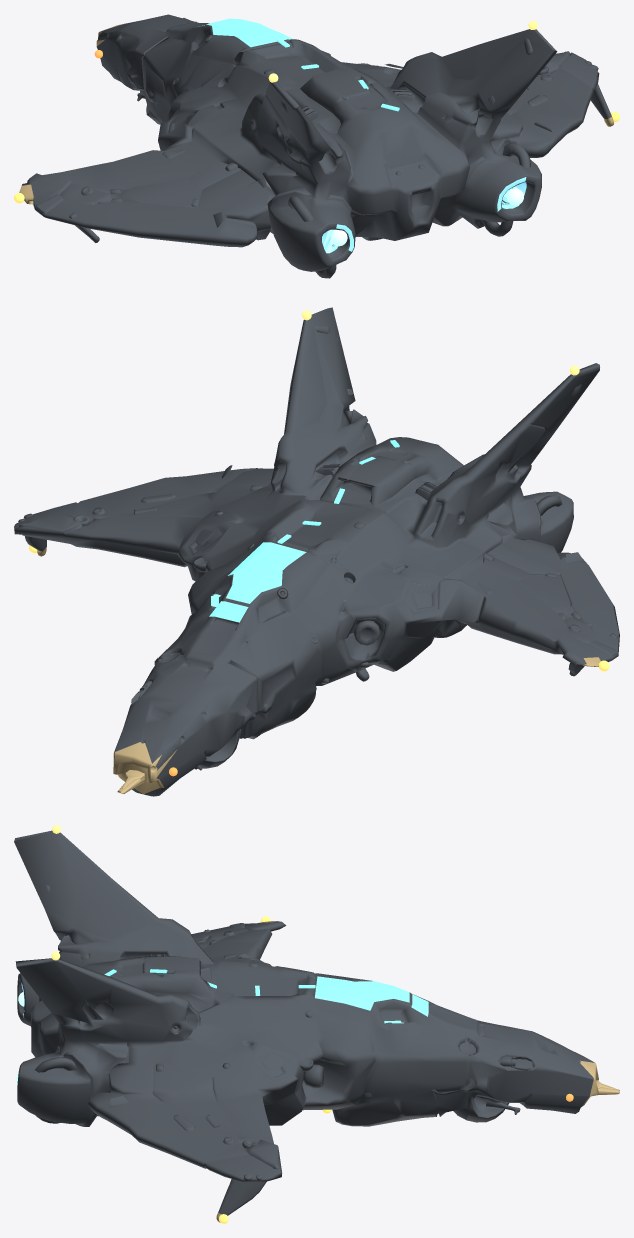
The model's file is allied-fighter.glb.
3 renders of one model, top to bottom at view 1: azimuth 30°, elevation 25°; view 2: azimuth 150°, elevation 25°; view 3: azimuth 270°, elevation 25°, orthographic. The views are drawn at different scales.
Visible parts, largest first — view 1: allied-fighter; view 2: allied-fighter; view 3: allied-fighter.
Part boxes in pixels (x1,y1,x2,y2): allied-fighter: (19, 14, 613, 278); allied-fighter: (14, 307, 619, 796); allied-fighter: (14, 830, 619, 1222).
Size of the model in its own units: 1.26 by 0.5188 by 1.23.
